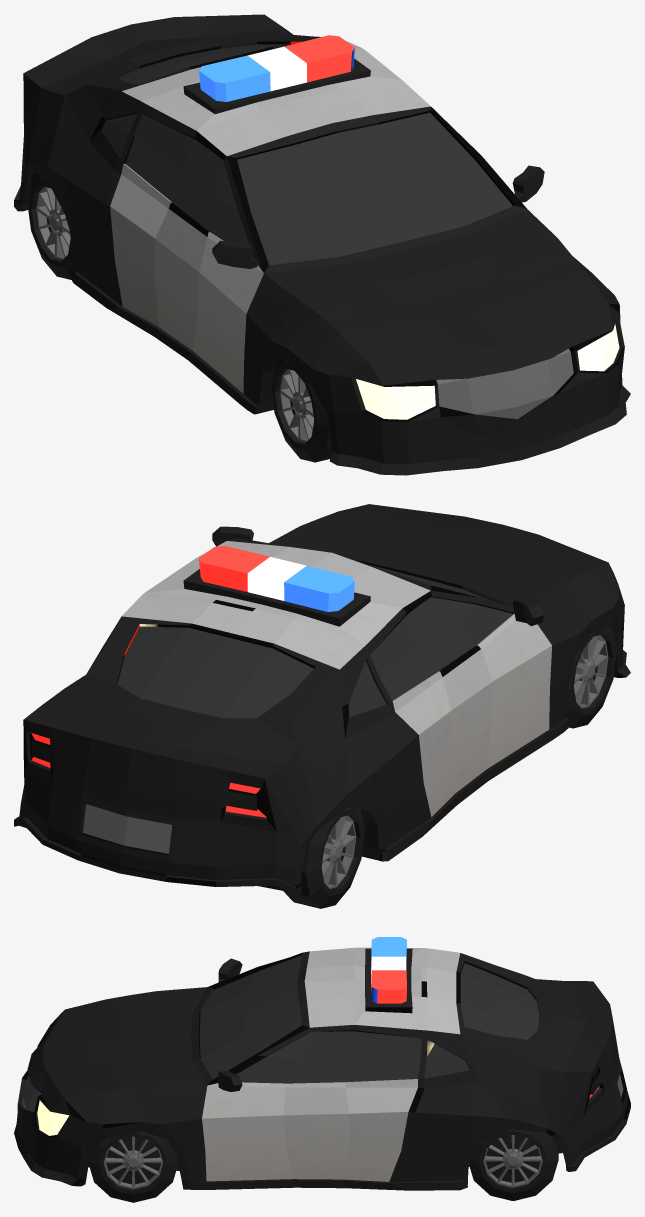
The model's file is citypack-police-L2.glb.
3 views of the same model, one above another, from view 1: azimuth 30°, elevation 25°; view 2: azimuth 150°, elevation 25°; view 3: azimuth 270°, elevation 25° (orthographic). The views are drawn at different scales.
Parts seen in each view (by area): view 1: body, wheel-front-left, wheel-front-left.1, wheel-back-left.1, wheel-back-left; view 2: body, wheel-back-left, wheel-front-left, wheel-front-left.1, wheel-back-left.1; view 3: body, wheel-back-right, wheel-front-right, wheel-back-right.1, wheel-front-right.1.
Boxes of the visible parts, x1,y1,x2,y2 form: body: [14, 14, 630, 475]; wheel-front-left: [270, 358, 331, 462]; wheel-front-left.1: [279, 369, 313, 442]; wheel-back-left.1: [36, 186, 70, 259]; wheel-back-left: [27, 173, 73, 279]; body: [14, 504, 630, 895]; wheel-back-left: [283, 807, 364, 908]; wheel-front-left: [566, 627, 617, 728]; wheel-front-left.1: [574, 635, 608, 708]; wheel-back-left.1: [321, 815, 356, 888]; body: [14, 937, 630, 1190]; wheel-back-right: [469, 1129, 558, 1200]; wheel-front-right: [88, 1131, 178, 1202]; wheel-back-right.1: [483, 1135, 542, 1187]; wheel-front-right.1: [103, 1136, 163, 1189].
Bounding box in the file's own units: 1.78 × 1.24 × 3.73.
Materials: 3 (1 with a texture image).
